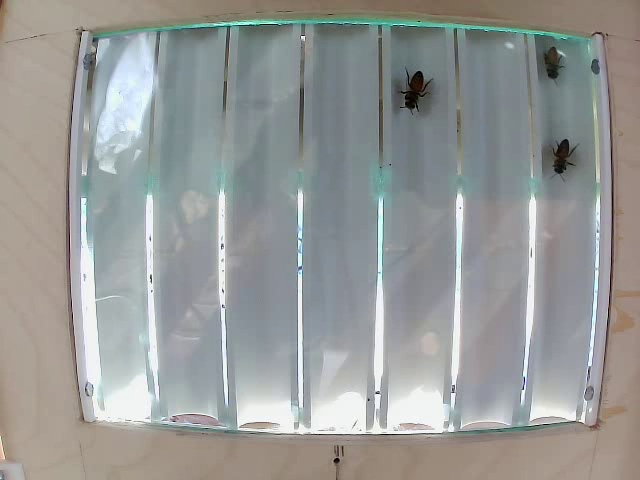bee: (396, 68, 435, 132), (533, 39, 569, 104), (540, 136, 581, 172)
